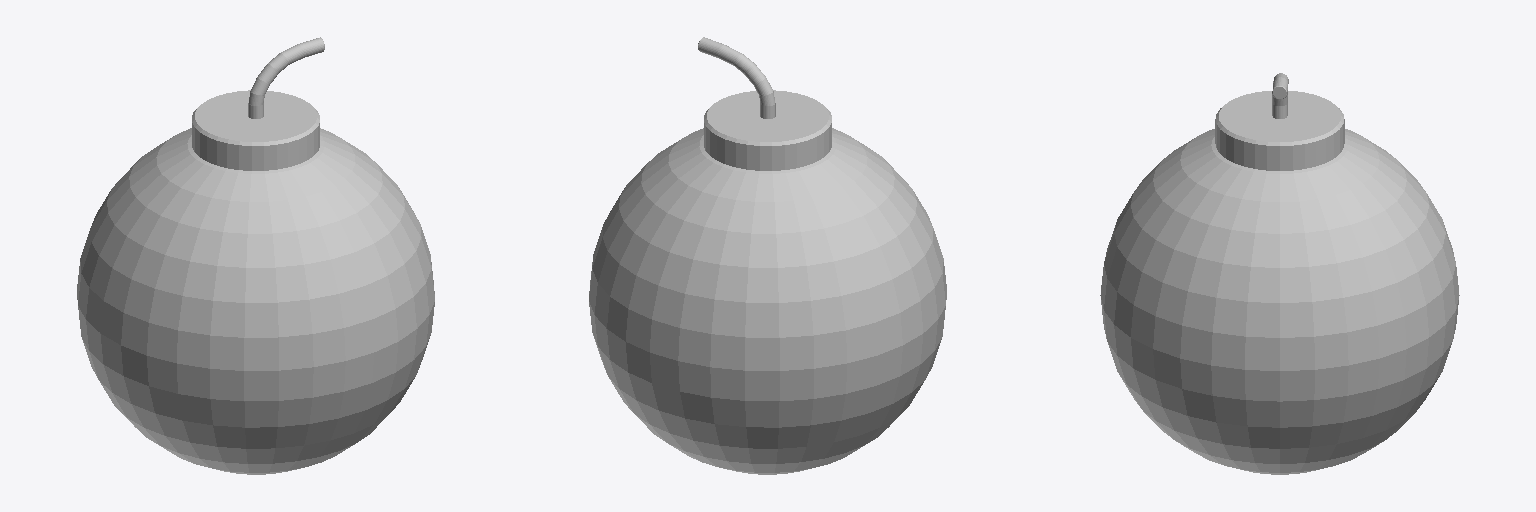
Rendered from bomb.obj.
3 views of the same model, side by side, from view 1: azimuth 30°, elevation 25°; view 2: azimuth 150°, elevation 25°; view 3: azimuth 270°, elevation 25° (orthographic).
Visible parts, largest first — view 1: Sphere; view 2: Sphere; view 3: Sphere.
Part boxes in pixels (x1,y1,x2,y2): Sphere: (77,37,434,474); Sphere: (589,37,946,474); Sphere: (1100,73,1459,474).
Size of the model in its own units: 2 by 2.48 by 2.